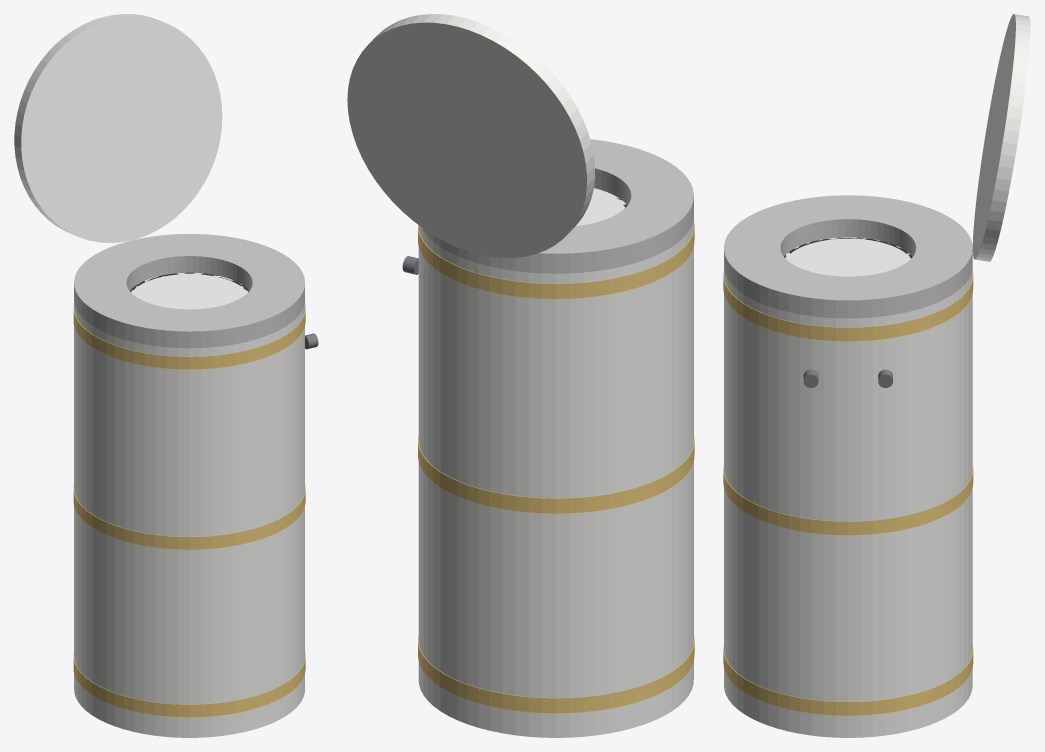
Rendered from sci05_survey_telescope_m_door_open.glb.
The picture shows the model from 3 angles, left to right: view 1: azimuth 30°, elevation 25°; view 2: azimuth 150°, elevation 25°; view 3: azimuth 270°, elevation 25°; orthographic projection. The views are drawn at different scales.
Visible parts, largest first — view 1: tube, door, baffle, tube_bands; view 2: tube, door, tube_bands, baffle; view 3: tube, baffle, tube_bands, door.
Boxes of the visible parts, bbox=[...] form: tube: bbox=[74, 273, 304, 737]; door: bbox=[14, 14, 222, 242]; baffle: bbox=[74, 234, 304, 348]; tube_bands: bbox=[73, 304, 305, 717]; tube: bbox=[418, 188, 693, 737]; door: bbox=[347, 14, 594, 257]; tube_bands: bbox=[418, 222, 694, 713]; baffle: bbox=[421, 139, 693, 273]; tube: bbox=[724, 237, 972, 737]; baffle: bbox=[724, 195, 972, 318]; tube_bands: bbox=[723, 271, 973, 715]; door: bbox=[972, 14, 1030, 261].
Bounding box in the file's own units: 2.6 × 7.31 × 3.09.
